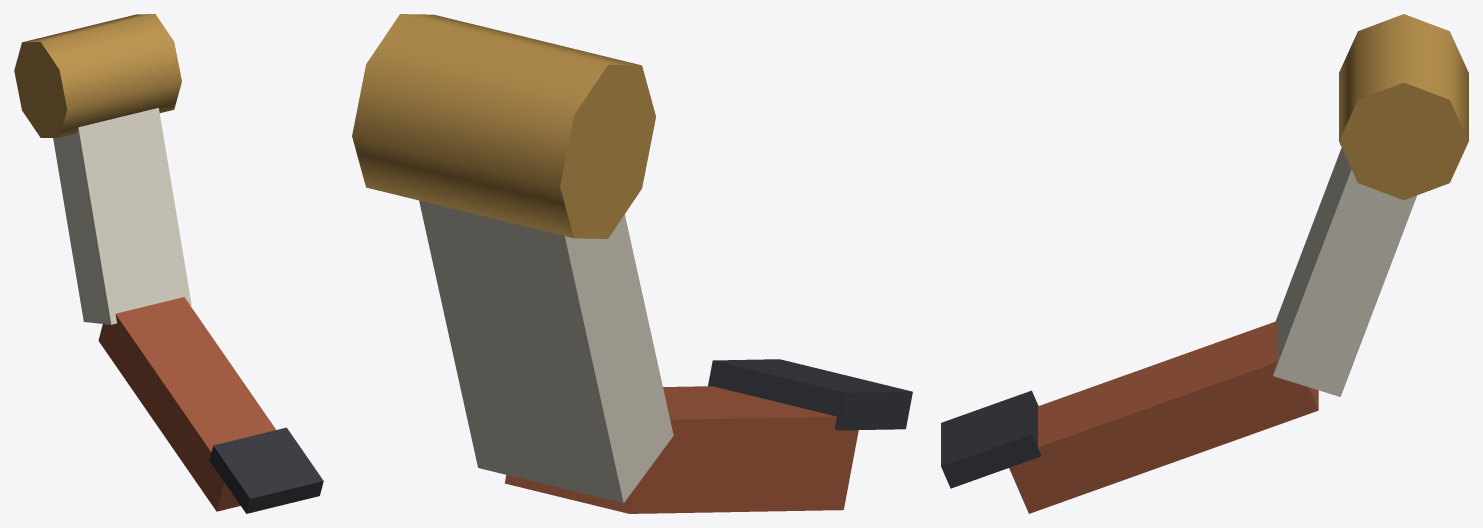
Rendered from rm2_claw_jaw_b.obj.
3 renders of one model, left to right at view 1: azimuth 30°, elevation 25°; view 2: azimuth 150°, elevation 25°; view 3: azimuth 270°, elevation 25°, orthographic. The views are drawn at different scales.
Parts seen in each view (by area): view 1: rm2_claw_jaw_b; view 2: rm2_claw_jaw_b; view 3: rm2_claw_jaw_b.
Part boxes in pixels (x1,y1,x2,y2): rm2_claw_jaw_b: (14, 14, 323, 513); rm2_claw_jaw_b: (352, 14, 912, 513); rm2_claw_jaw_b: (941, 14, 1468, 513).
Bounding box in the file's own units: 0.05 × 0.1512 × 0.1625.
